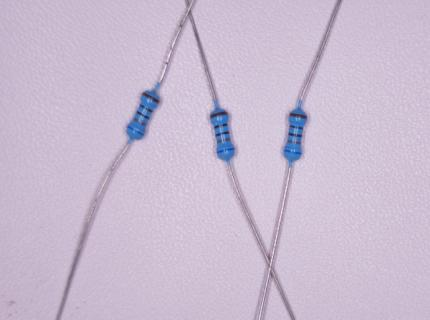Black band: (137, 111, 150, 120), (140, 104, 153, 113), (214, 124, 228, 130), (215, 131, 229, 137), (289, 133, 302, 138), (289, 125, 303, 129)
Blue band: (127, 126, 145, 136), (217, 148, 234, 154), (285, 150, 302, 155)
Brown band: (142, 92, 159, 104), (210, 111, 227, 119), (290, 113, 307, 119)
Grey band: (133, 118, 147, 127), (217, 137, 230, 144), (287, 139, 301, 145)
